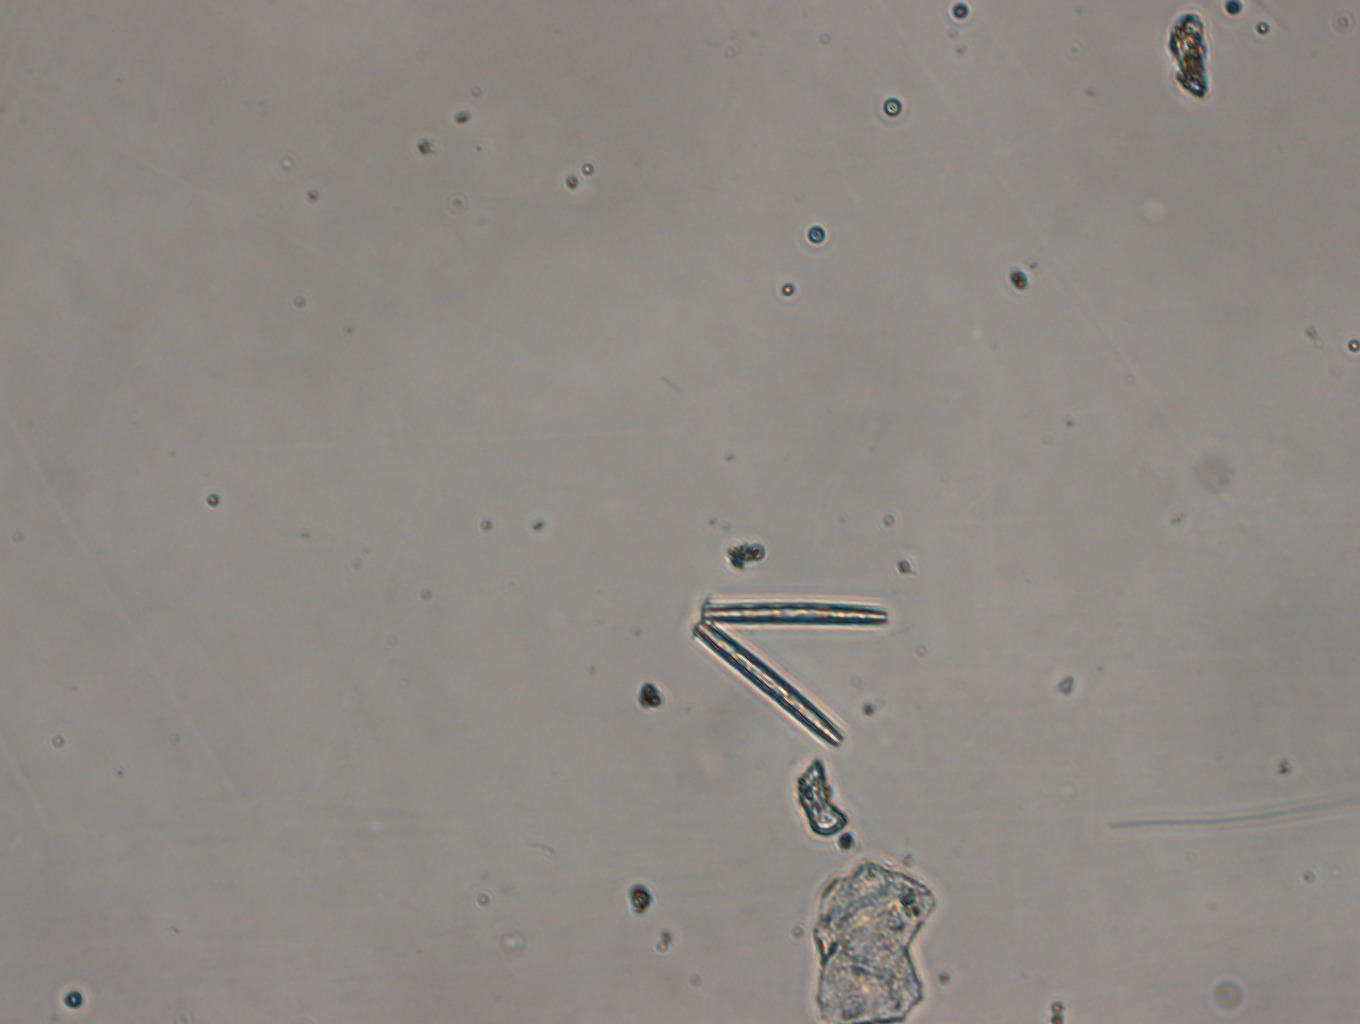thalassionema frauenfeldii: (692, 587, 896, 746)
